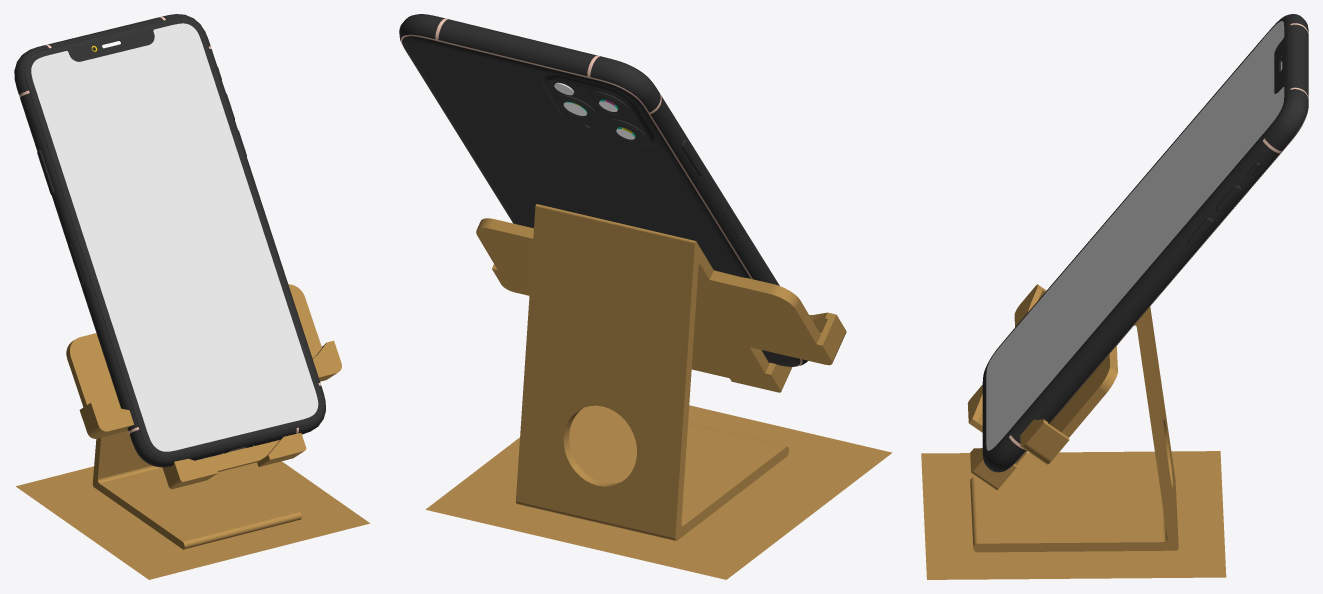
The model's file is mob.glb.
3 views of the same model, side by side, from view 1: azimuth 30°, elevation 25°; view 2: azimuth 150°, elevation 25°; view 3: azimuth 270°, elevation 25° (orthographic). The views are drawn at different scales.
Parts seen in each view (by area): view 1: iPhone 11 Pro Max-6, Phone stand 9-iPhone XS max, Plane, iPhone 11 Pro Max.016, iPhone 11 Pro Max.010; view 2: Phone stand 9-iPhone XS max, iPhone 11 Pro Max.018, Plane, iPhone 11 Pro Max.010, iPhone 11 Pro Max-5; view 3: iPhone 11 Pro Max-6, Phone stand 9-iPhone XS max, Plane, iPhone 11 Pro Max.010, iPhone 11 Pro Max.016, iPhone 11 Pro Max-5.
Boxes of the visible parts, x1,y1,x2,y2 form: iPhone 11 Pro Max-6: [31, 23, 318, 451]; Phone stand 9-iPhone XS max: [66, 284, 341, 549]; Plane: [16, 461, 370, 579]; iPhone 11 Pro Max.016: [24, 17, 323, 458]; iPhone 11 Pro Max.010: [14, 14, 325, 467]; Phone stand 9-iPhone XS max: [476, 204, 846, 540]; iPhone 11 Pro Max.018: [402, 36, 800, 366]; Plane: [425, 405, 892, 579]; iPhone 11 Pro Max.010: [399, 14, 807, 365]; iPhone 11 Pro Max-5: [401, 18, 802, 366]; iPhone 11 Pro Max-6: [986, 21, 1284, 450]; Phone stand 9-iPhone XS max: [967, 284, 1178, 552]; Plane: [921, 451, 1226, 579]; iPhone 11 Pro Max.010: [982, 14, 1308, 472]; iPhone 11 Pro Max.016: [983, 15, 1290, 457]; iPhone 11 Pro Max-5: [982, 23, 1308, 469].
Size of the model in its own units: 3.53 by 5.49 by 4.15.
